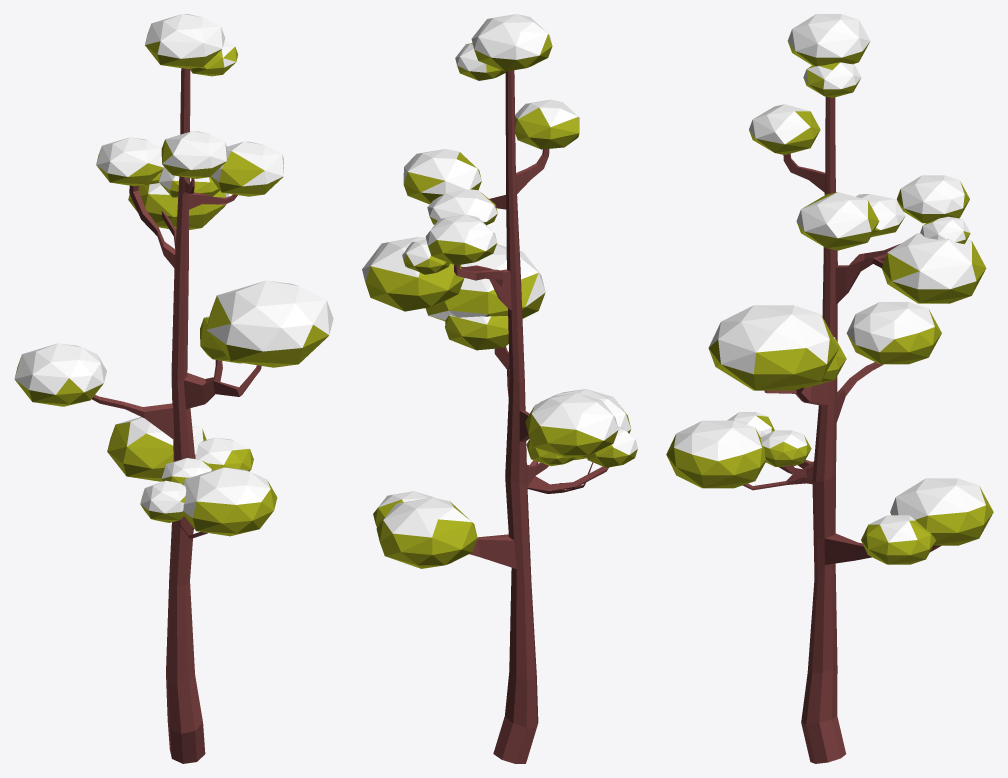
The model's file is SM_Tree_02.fbx.
3 views of the same model, side by side, from view 1: azimuth 30°, elevation 25°; view 2: azimuth 150°, elevation 25°; view 3: azimuth 270°, elevation 25° (orthographic).
Parts seen in each view (by area): view 1: SM_Tree_02_LOD0; view 2: SM_Tree_02_LOD0; view 3: SM_Tree_02_LOD0.
Part boxes in pixels (x1,y1,x2,y2): SM_Tree_02_LOD0: (14, 14, 333, 763); SM_Tree_02_LOD0: (362, 14, 637, 763); SM_Tree_02_LOD0: (666, 14, 993, 763).
Size of what is drawn, in the model's own units: 430 by 1252 by 500.
